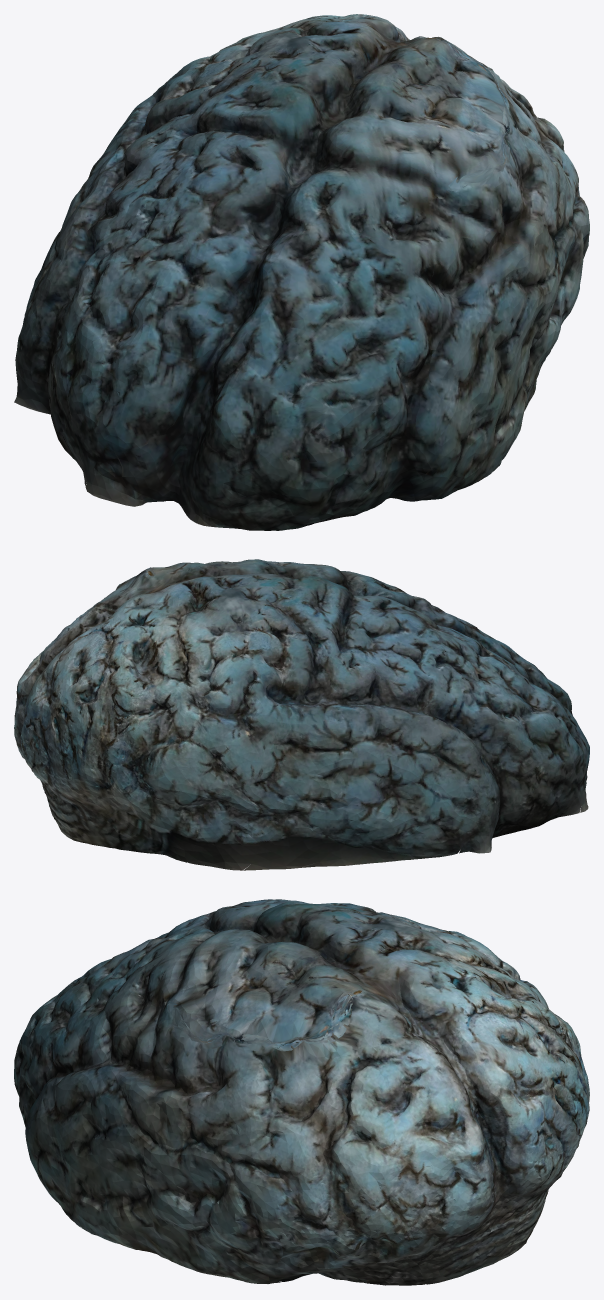
Rendered from brain.glb.
3 renders of one model, top to bottom at view 1: azimuth 30°, elevation 25°; view 2: azimuth 150°, elevation 25°; view 3: azimuth 270°, elevation 25°, orthographic. The views are drawn at different scales.
Parts seen in each view (by area): view 1: Mesh_0; view 2: Mesh_0; view 3: Mesh_0.
Part boxes in pixels (x1,y1,x2,y2): Mesh_0: (14,14,589,530); Mesh_0: (14,559,589,870); Mesh_0: (14,899,589,1285).
Bounding box in the file's own units: 3.83 × 2 × 3.58.
1 material, 1 textured.
